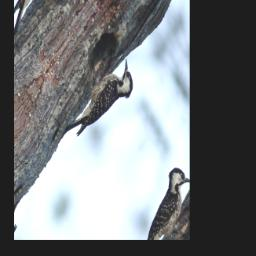Woodpecker: (55, 30, 141, 167)
